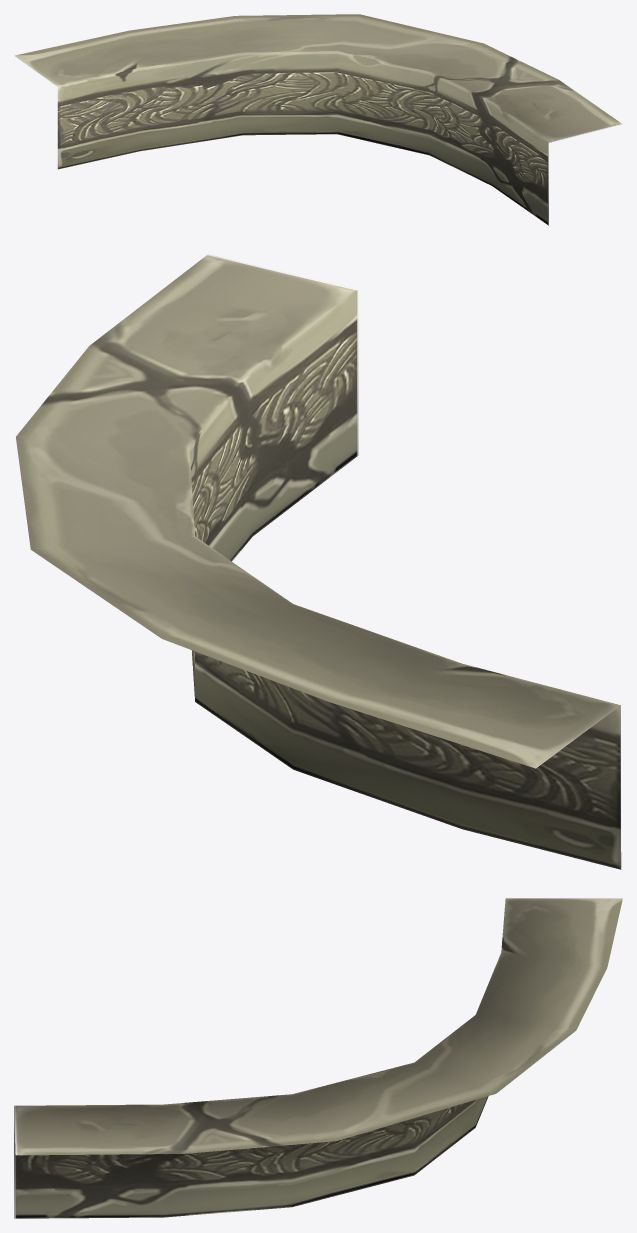
The model's file is wall_concave1_base.fbx.
3 views of the same model, one above another, from view 1: azimuth 30°, elevation 25°; view 2: azimuth 150°, elevation 25°; view 3: azimuth 270°, elevation 25° (orthographic). The views are drawn at different scales.
Visible parts, largest first — view 1: convex2_v_base; view 2: convex2_v_base; view 3: convex2_v_base.
Boxes of the visible parts, x1,y1,x2,y2 form: convex2_v_base: [14, 14, 622, 225]; convex2_v_base: [16, 254, 621, 869]; convex2_v_base: [14, 898, 622, 1218].
Size of the model in its own units: 2 by 0.4227 by 2.
